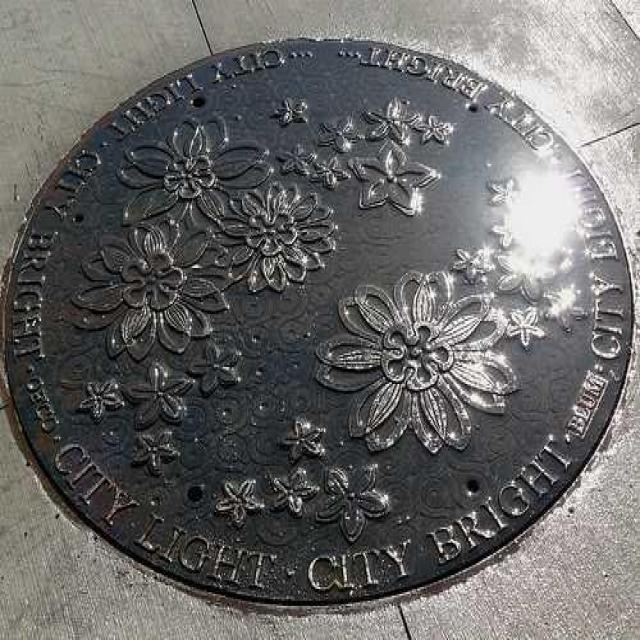manhole: (5, 40, 633, 604)
